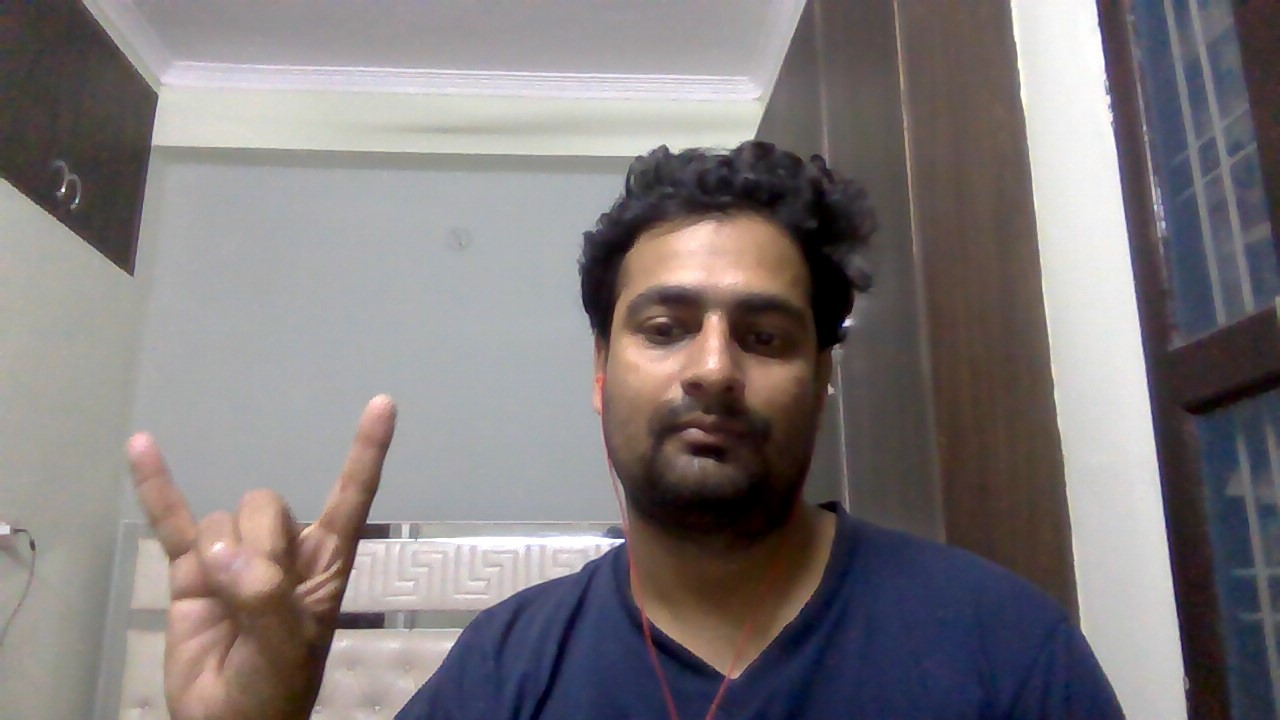Select All: (105, 384, 423, 720)
